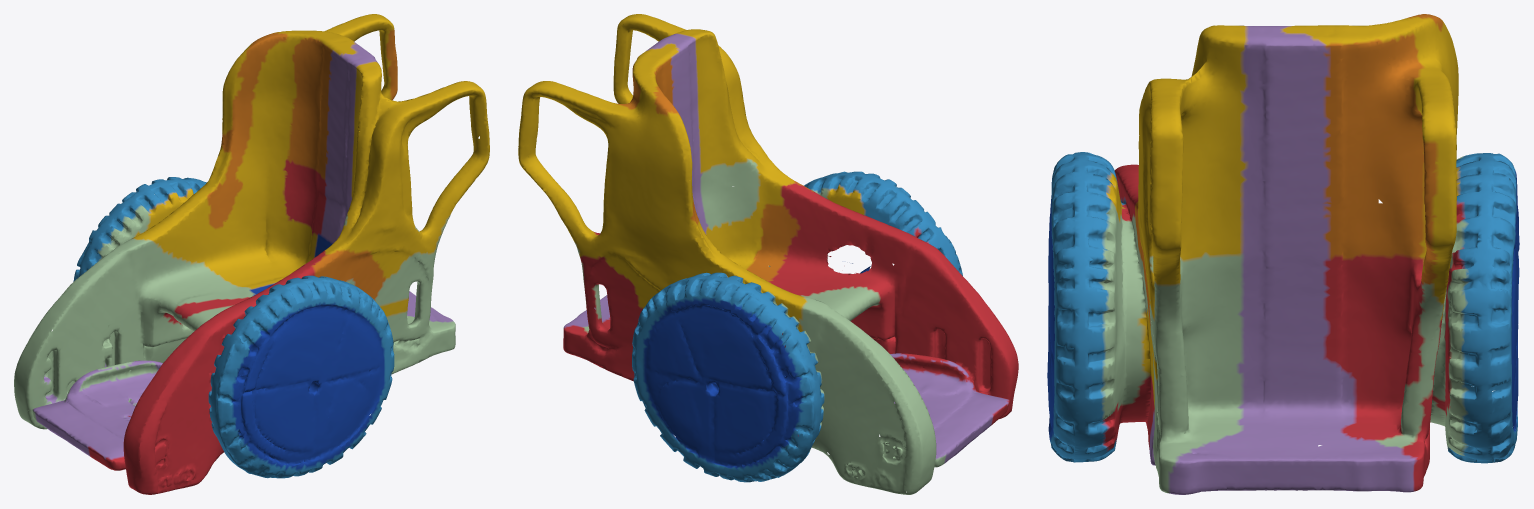
File: cadeira_colorida_leve.glb
3 renders of one model, left to right at view 1: azimuth 30°, elevation 25°; view 2: azimuth 150°, elevation 25°; view 3: azimuth 270°, elevation 25°, orthographic. The views are drawn at different scales.
Parts seen in each view (by area): view 1: cadeira; view 2: cadeira; view 3: cadeira.
Part boxes in pixels (left/top/right/bottom): cadeira: left=14, top=14, right=489, bottom=494; cadeira: left=518, top=14, right=1018, bottom=494; cadeira: left=1047, top=14, right=1519, bottom=494.
Bounding box in the file's own units: 1.99 × 1.68 × 1.42.
